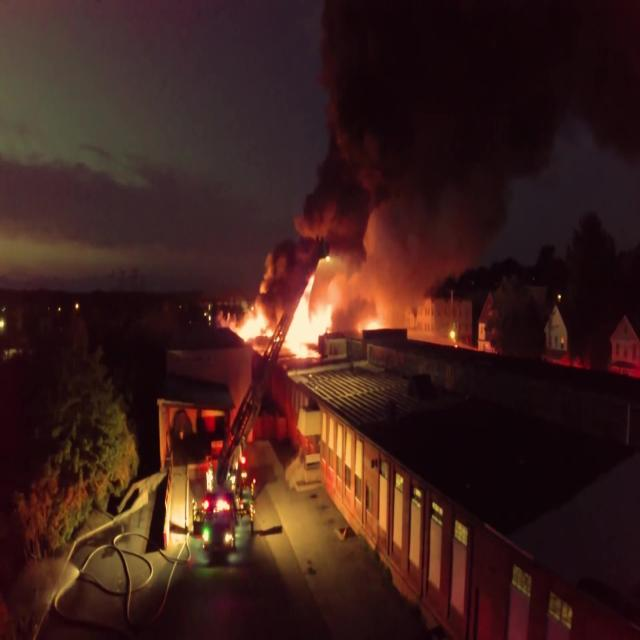Fire: (284, 281, 336, 362), (236, 296, 274, 348), (365, 317, 385, 333)
Smoke: (268, 0, 640, 270)
